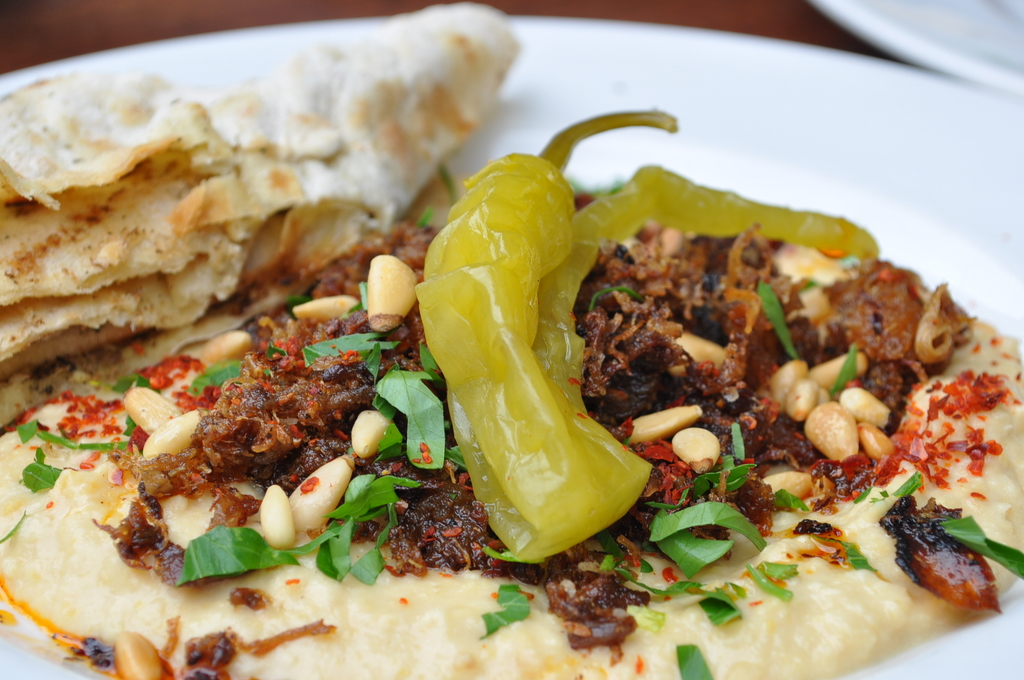taco: (0, 185, 1023, 679), (0, 1, 522, 423)
